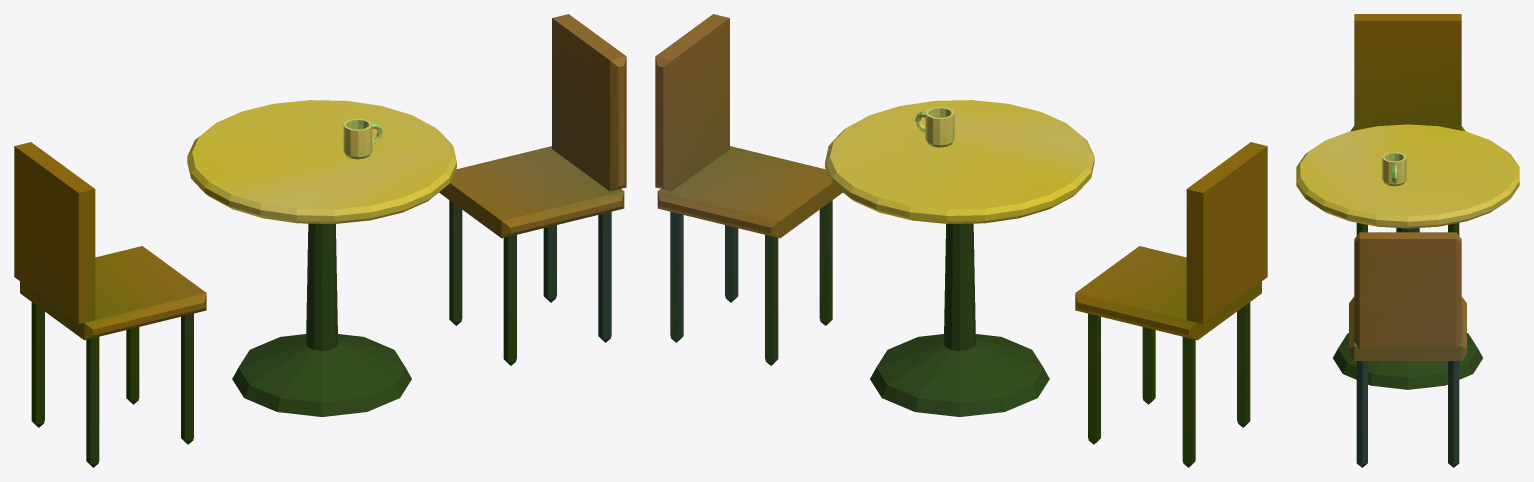
File: GS_CafeTable.fbx
The picture shows the model from 3 angles, left to right: view 1: azimuth 30°, elevation 25°; view 2: azimuth 150°, elevation 25°; view 3: azimuth 270°, elevation 25°; orthographic projection. The views are drawn at different scales.
Parts seen in each view (by area): view 1: GS_CafeTable; view 2: GS_CafeTable; view 3: GS_CafeTable.
Boxes of the visible parts, bbox=[...] form: GS_CafeTable: bbox=[14, 14, 626, 467]; GS_CafeTable: bbox=[655, 14, 1267, 467]; GS_CafeTable: bbox=[1296, 14, 1519, 467].
Bounding box in the file's own units: 1.98 × 0.972 × 0.8314.
